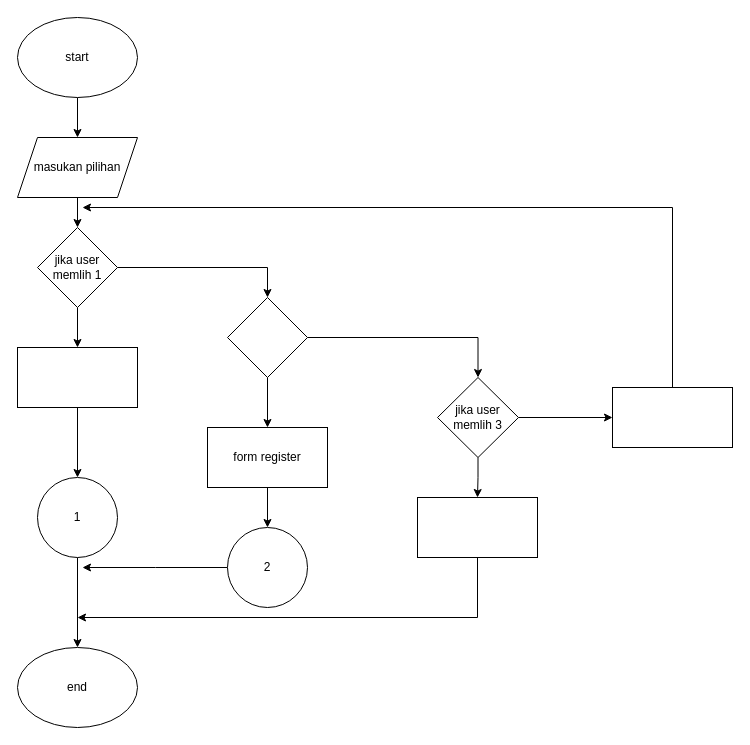
This 750x745 diagram has some shape labels left out. Each missing label, with the centre of its shape:
exit: [477,527]
form login: [77,377]
input tidak valid: [672,417]
jika user memlih 2: [267,337]
